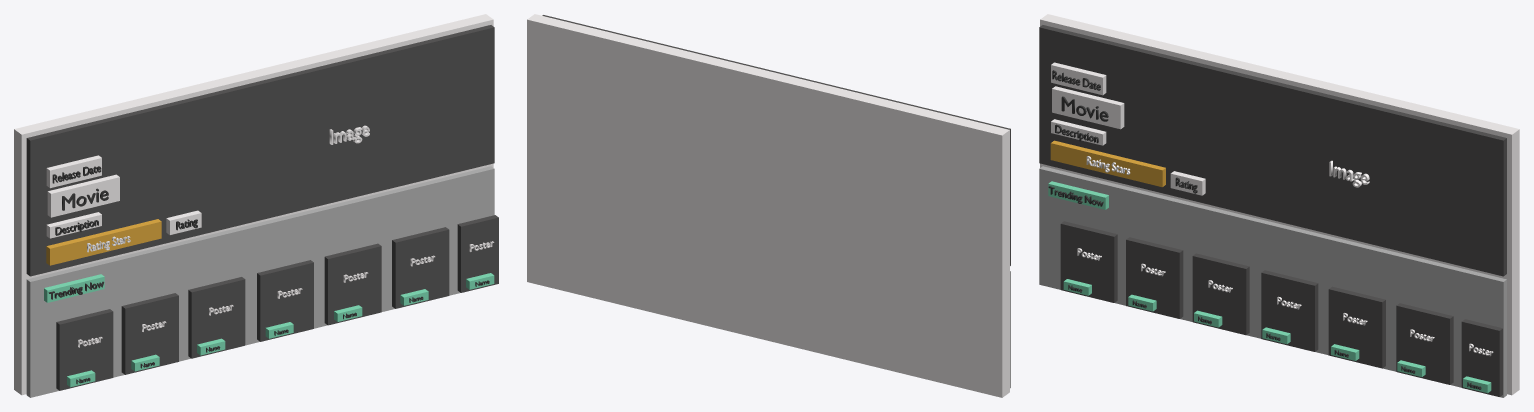
The picture shows the model from 3 angles, left to right: view 1: azimuth 30°, elevation 25°; view 2: azimuth 150°, elevation 25°; view 3: azimuth 330°, elevation 25°; orthographic projection.
Parts seen in each view (by area): view 1: Cube.003, Text.020; view 2: Cube.003; view 3: Cube.003, Text.020.
Boxes of the visible parts, x1=… form: Cube.003: x1=14, y1=14, x2=498, y2=397; Text.020: x1=329, y1=125, x2=369, y2=144; Cube.003: x1=527, y1=14, x2=1010, y2=397; Cube.003: x1=1039, y1=14, x2=1519, y2=397; Text.020: x1=1329, y1=160, x2=1369, y2=187.
Bounding box in the file's own units: 19.66 × 10.38 × 1.53.
